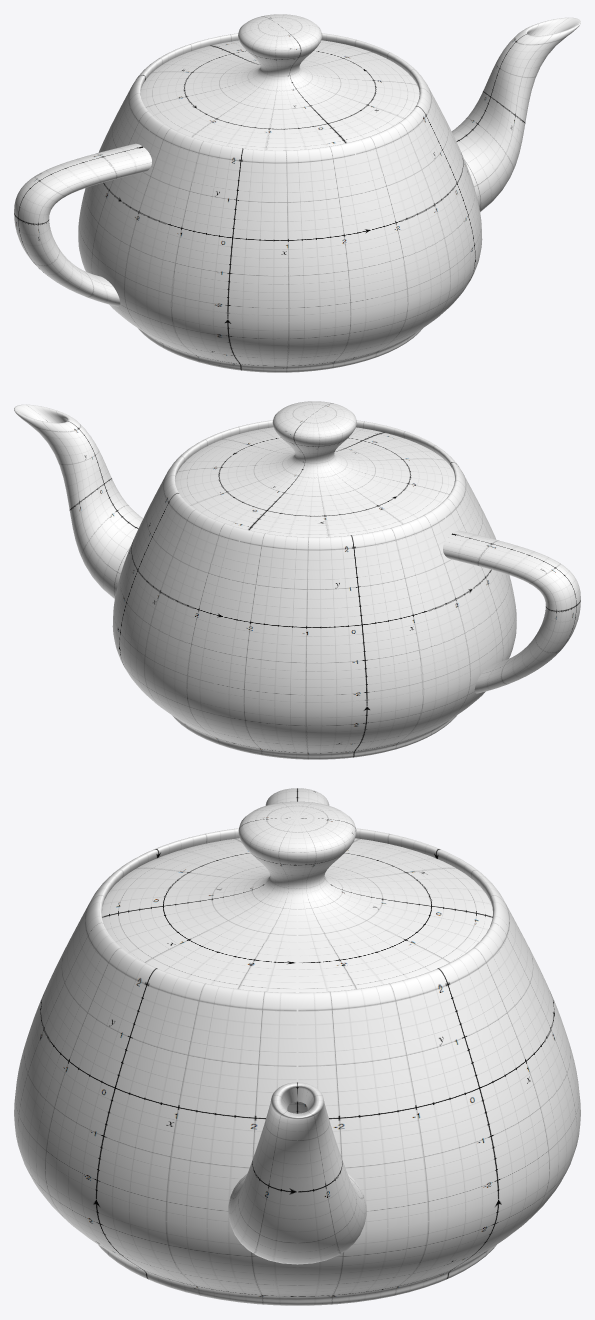
File: teapot.dae
The picture shows the model from 3 angles, top to bottom: view 1: azimuth 30°, elevation 25°; view 2: azimuth 150°, elevation 25°; view 3: azimuth 270°, elevation 25°; orthographic projection. The views are drawn at different scales.
Visible parts, largest first — view 1: Teapot; view 2: Teapot; view 3: Teapot.
Boxes of the visible parts, <box> form: Teapot: <box>14,14,580,372</box>; Teapot: <box>14,401,580,759</box>; Teapot: <box>14,788,580,1305</box>.
Size of the model in its own units: 120 by 74.36 by 59.63.
1 material, 1 textured.
